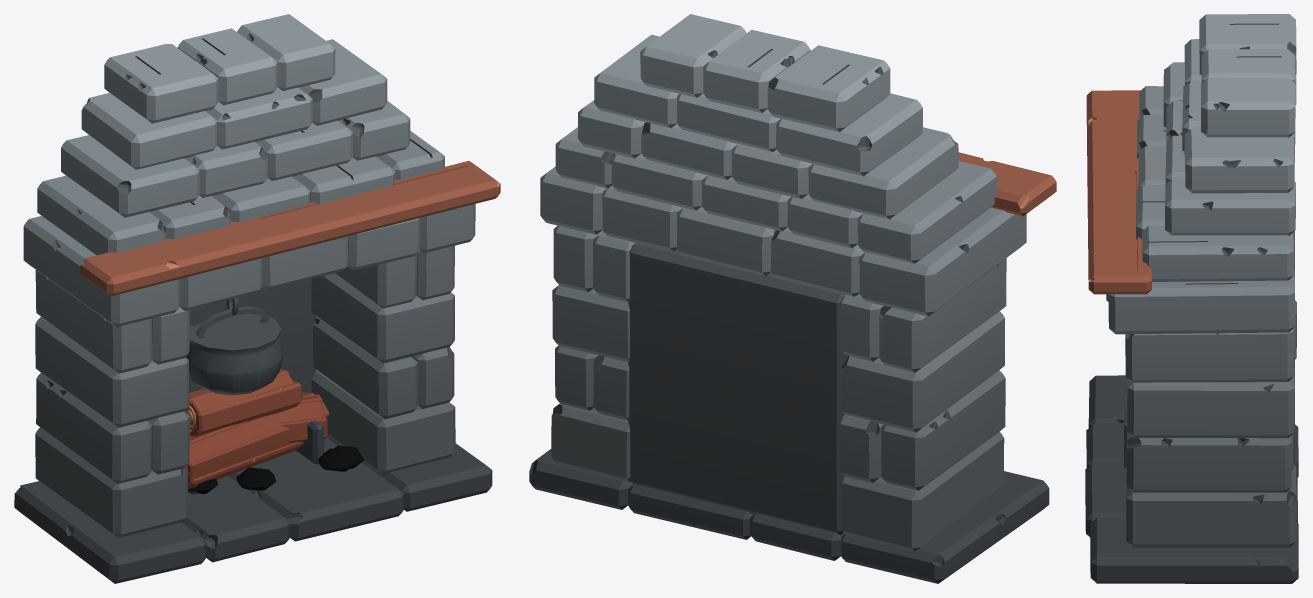
The model's file is hearth.glb.
The picture shows the model from 3 angles, left to right: view 1: azimuth 30°, elevation 25°; view 2: azimuth 150°, elevation 25°; view 3: azimuth 270°, elevation 25°; orthographic projection. The views are drawn at different scales.
Parts seen in each view (by area): view 1: hearth; view 2: hearth; view 3: hearth.
Boxes of the visible parts, x1=… form: hearth: x1=14, y1=14, x2=500, y2=583; hearth: x1=529, y1=14, x2=1056, y2=583; hearth: x1=1085, y1=14, x2=1298, y2=583.
Bounding box in the file's own units: 3.52 × 3.7 × 1.65.
Materials: 1 (1 with a texture image).
